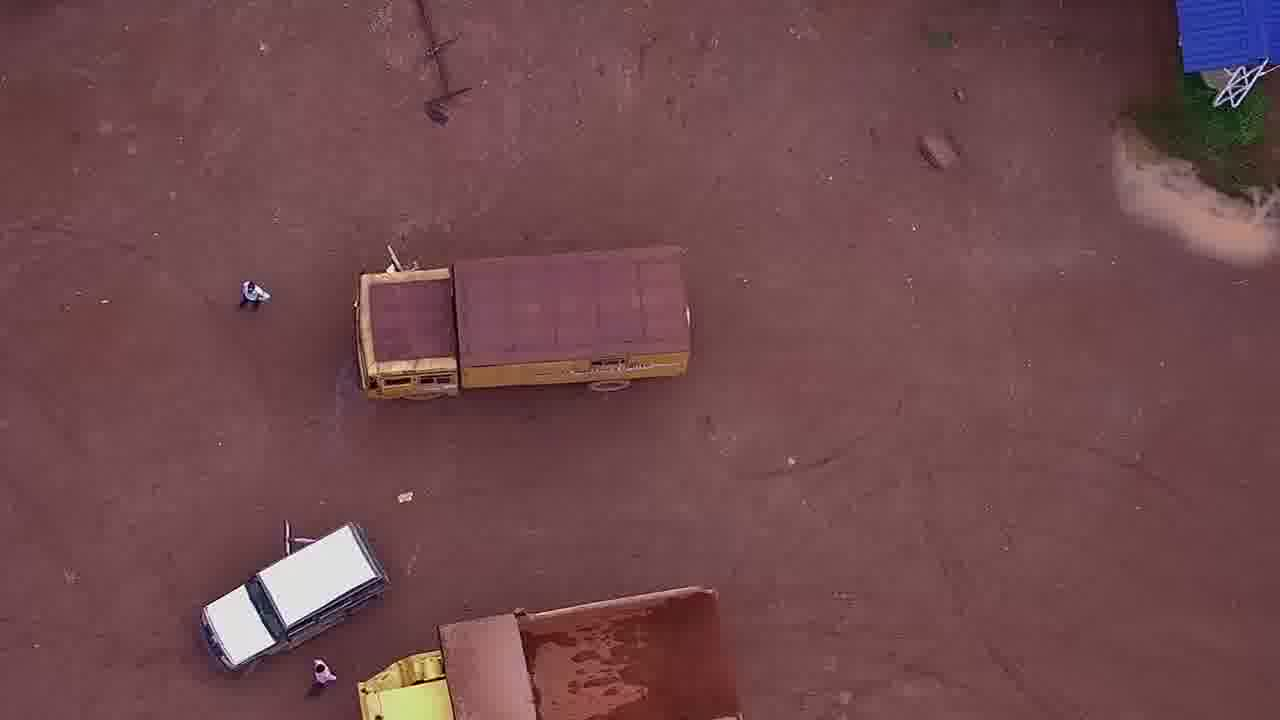HMV: (355, 241, 693, 404), (355, 581, 745, 718)
LMV: (190, 518, 390, 678)
Person: (237, 268, 270, 320), (306, 655, 340, 694)
